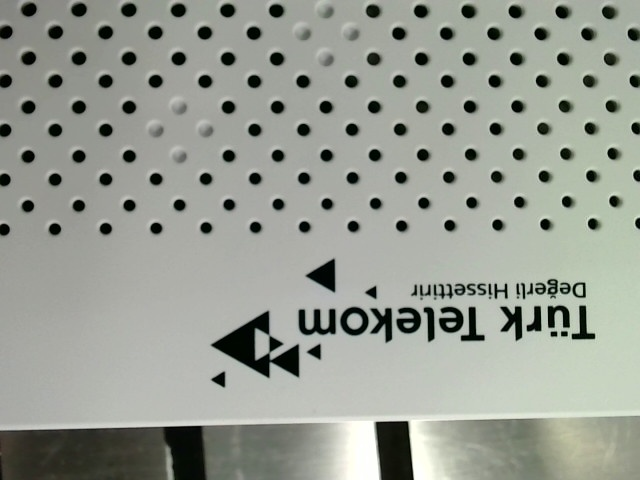AQ_TURKTelekom: (207, 254, 596, 386)
